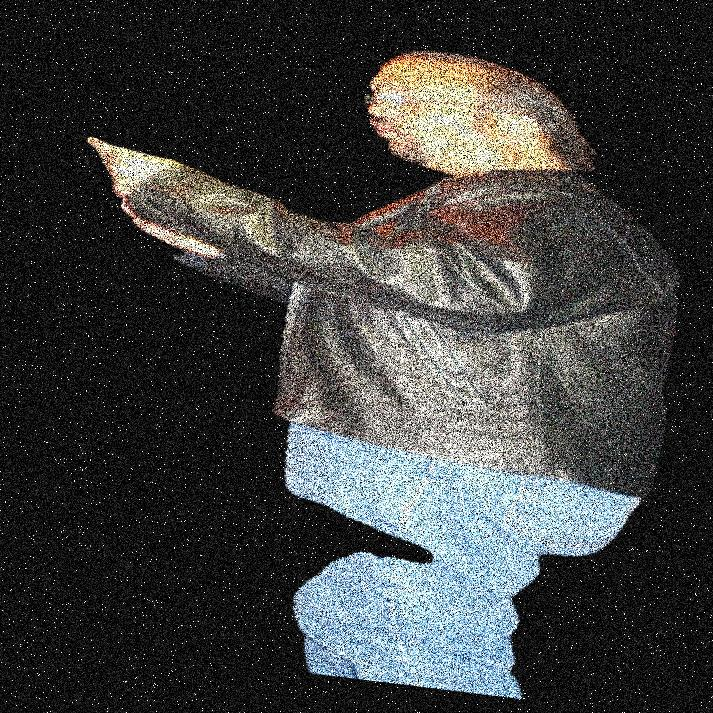Pessoa: (339, 0, 642, 712)
